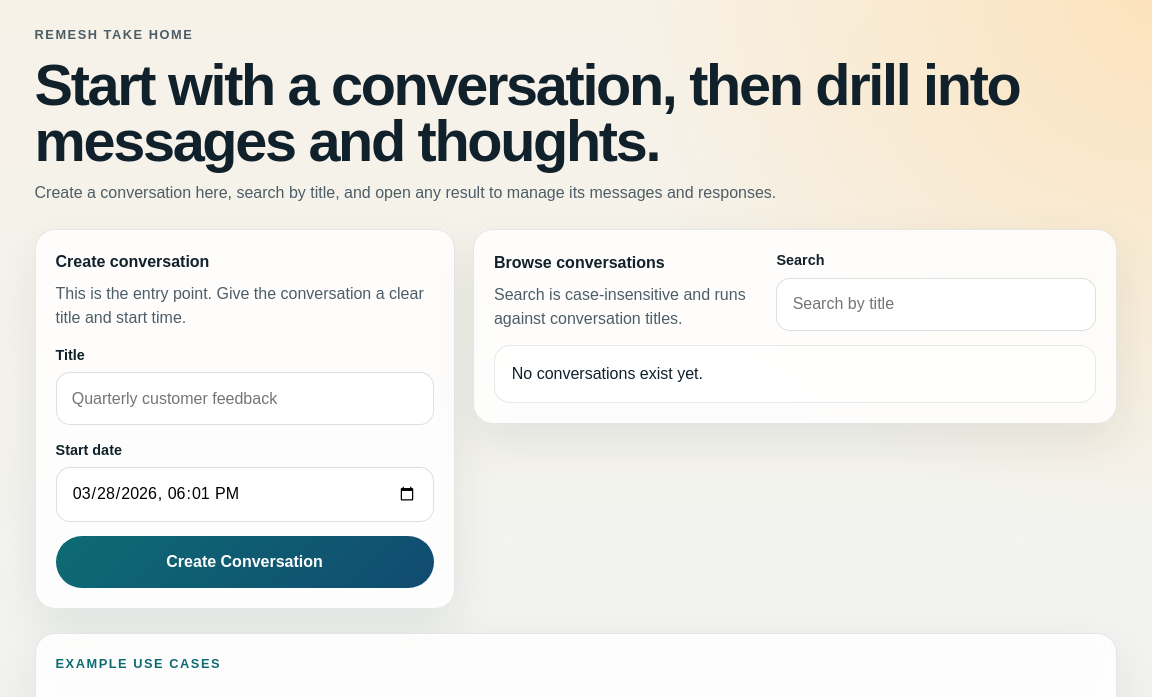
ConversationsPage › blocks invalid conversation submits on the client
Clear the field labelled "Title": (244, 399) [56, 372, 434, 425]
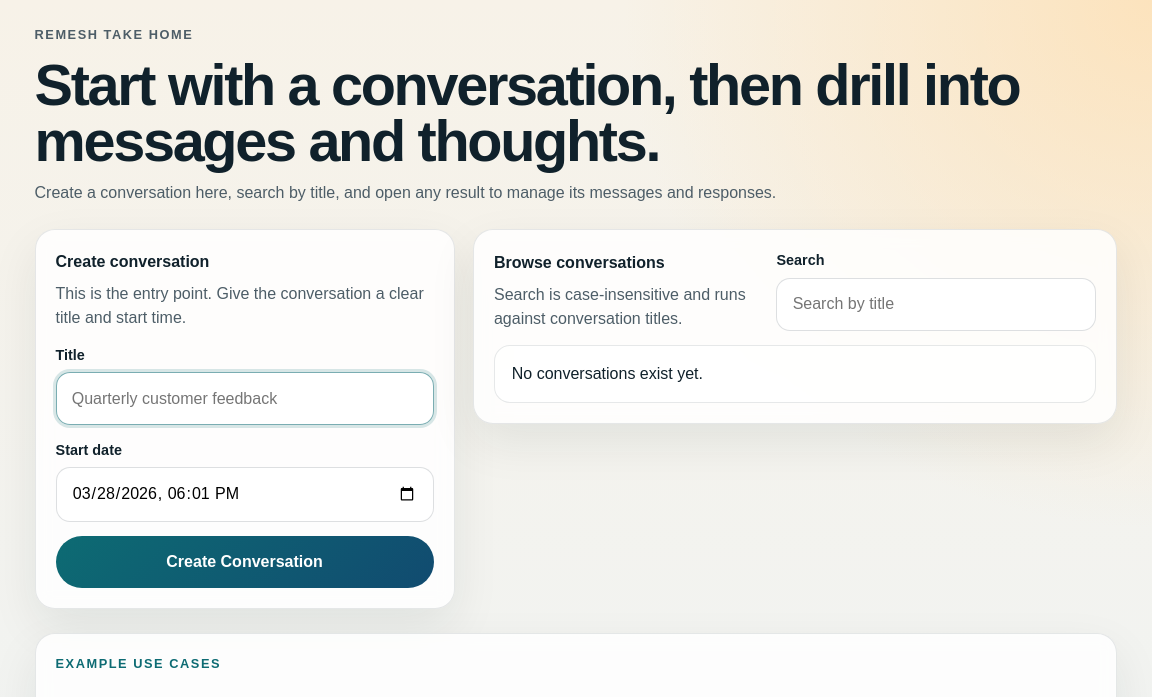
Clear the field labelled "Start date": (244, 494) [56, 467, 434, 522]
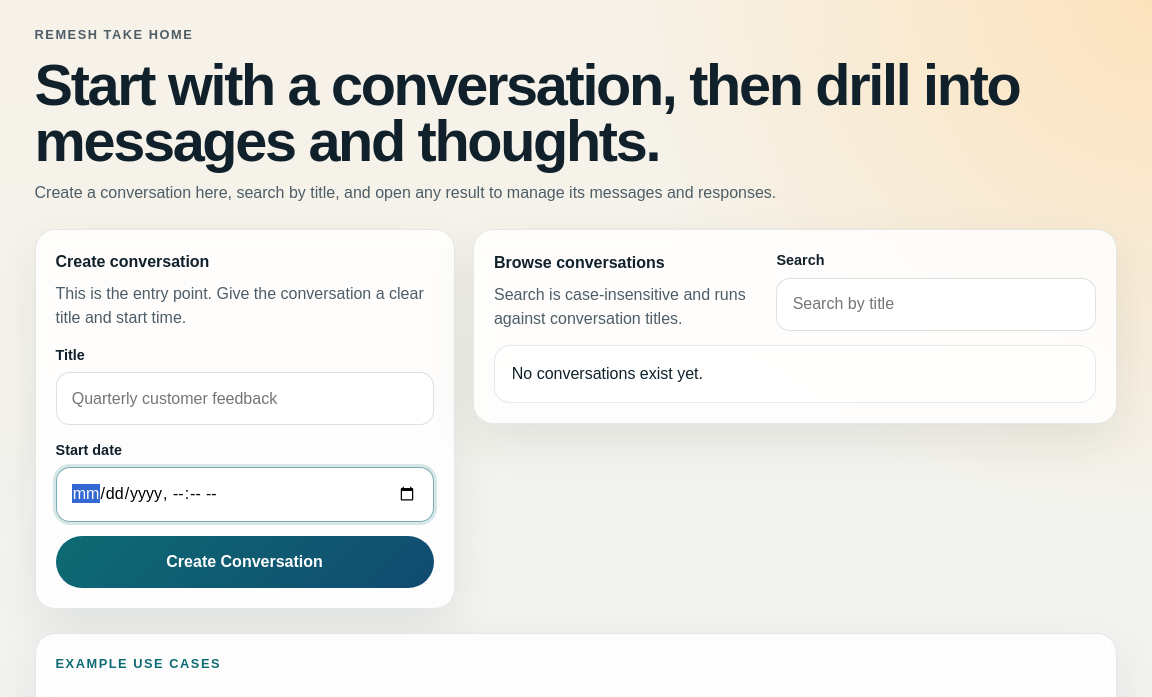
Click the button "Create Conversation": (244, 562) [56, 536, 434, 588]
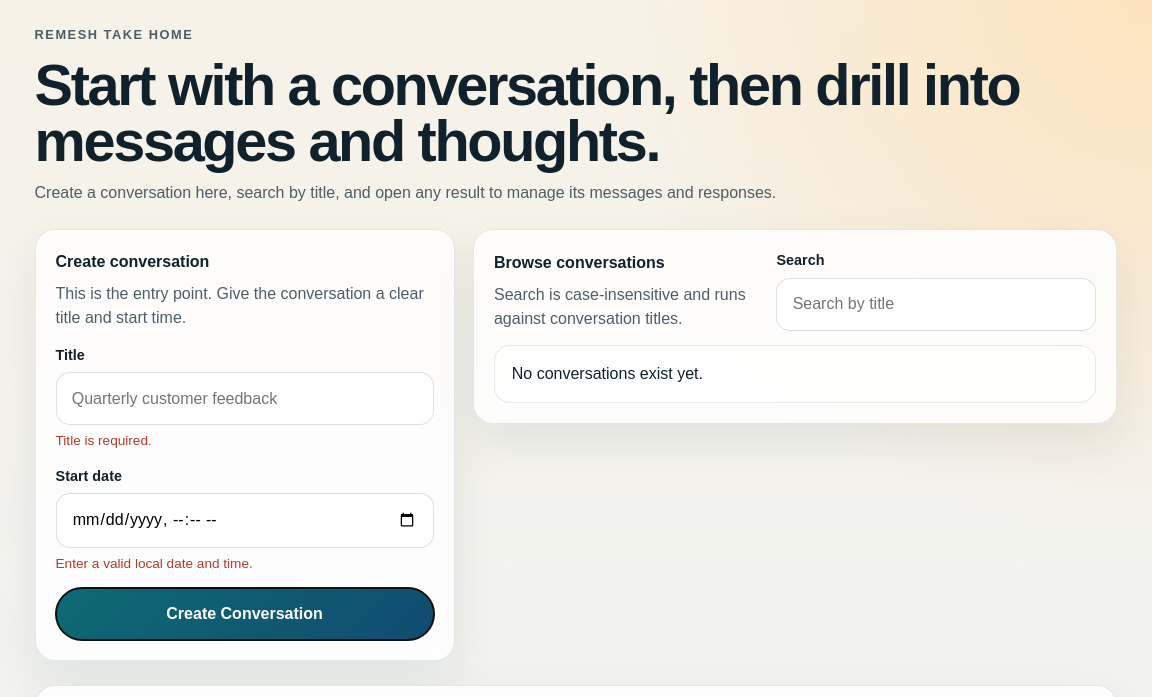
Expected: the text "Title is required." is shown, [56, 433, 152, 448]
Expected: the text "Enter a valid local date and time." is shown, [56, 556, 253, 570]
